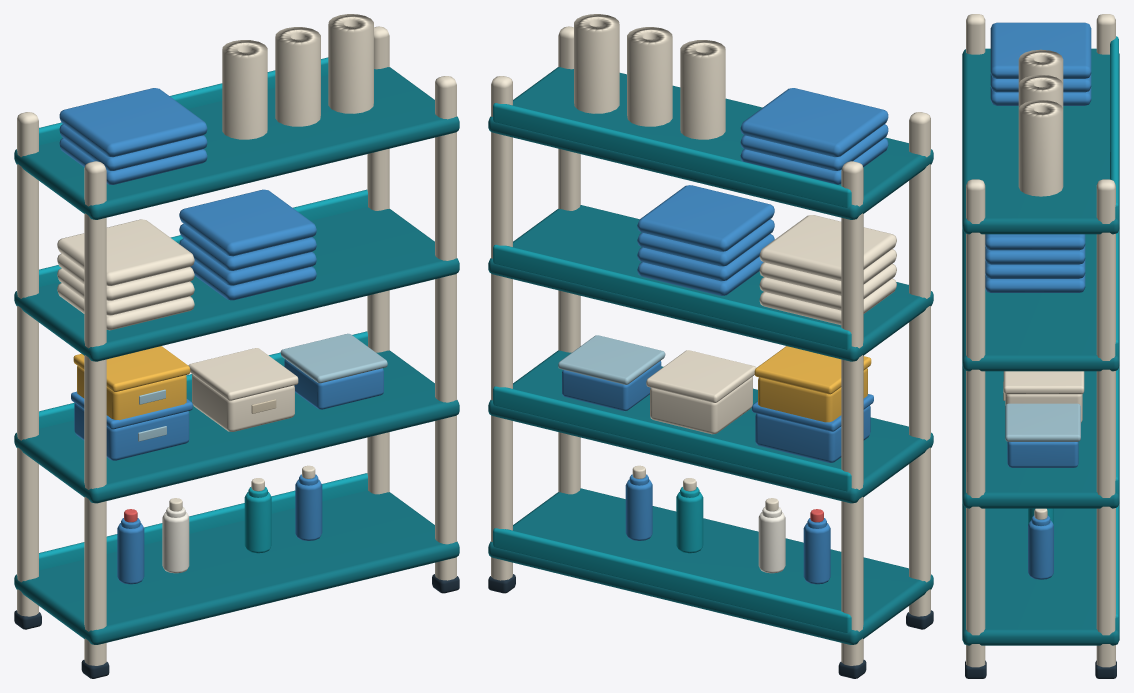
File: Utility_Supply_Shelf.glb
The picture shows the model from 3 angles, left to right: view 1: azimuth 30°, elevation 25°; view 2: azimuth 150°, elevation 25°; view 3: azimuth 270°, elevation 25°; orthographic projection. The views are drawn at different scales.
Visible parts, largest first — view 1: Utility_Supply_Shelf__Visual, Clinical_Storage_Bins__Visual.001, Paper_Roll.001__Visual, Paper_Roll.002__Visual, Paper_Roll__Visual; view 2: Utility_Supply_Shelf__Visual, Clinical_Storage_Bins__Visual.001, Paper_Roll.001__Visual, Paper_Roll.002__Visual, Paper_Roll__Visual; view 3: Utility_Supply_Shelf__Visual, Clinical_Storage_Bins__Visual.001, Paper_Roll.002__Visual, Paper_Roll__Visual, Paper_Roll.001__Visual.
Part boxes in pixels (box(x1,y1,x2,y2)): Utility_Supply_Shelf__Visual: box(14, 26, 459, 678); Clinical_Storage_Bins__Visual.001: box(71, 333, 387, 460); Paper_Roll.001__Visual: box(275, 27, 320, 126); Paper_Roll.002__Visual: box(328, 14, 373, 113); Paper_Roll__Visual: box(222, 40, 267, 139); Utility_Supply_Shelf__Visual: box(488, 26, 933, 678); Clinical_Storage_Bins__Visual.001: box(558, 335, 873, 462); Paper_Roll.001__Visual: box(627, 27, 672, 126); Paper_Roll.002__Visual: box(574, 14, 619, 113); Paper_Roll__Visual: box(680, 40, 725, 139); Utility_Supply_Shelf__Visual: box(962, 14, 1119, 678); Clinical_Storage_Bins__Visual.001: box(1003, 371, 1084, 467); Paper_Roll.002__Visual: box(1018, 100, 1063, 196); Paper_Roll__Visual: box(1018, 49, 1063, 83); Paper_Roll.001__Visual: box(1018, 75, 1063, 108).
Bounding box in the file's own units: 1.39 × 2 × 0.53.
Materials: 1 (1 with a texture image).
